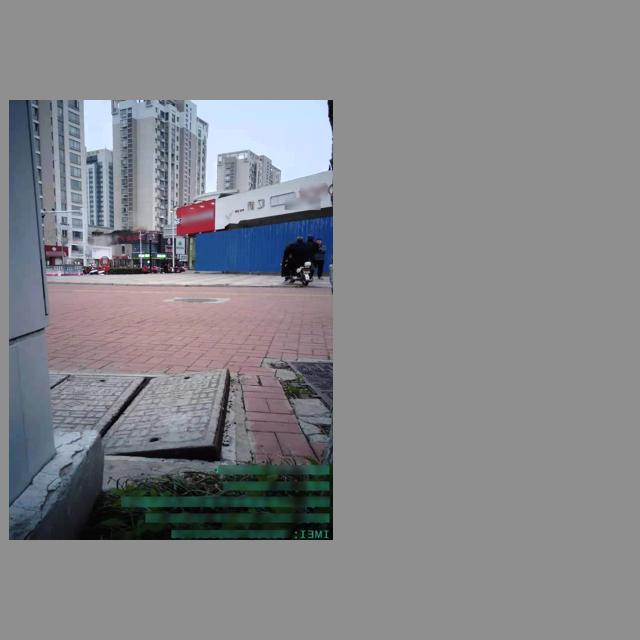uncovered: (52, 366, 240, 467)
